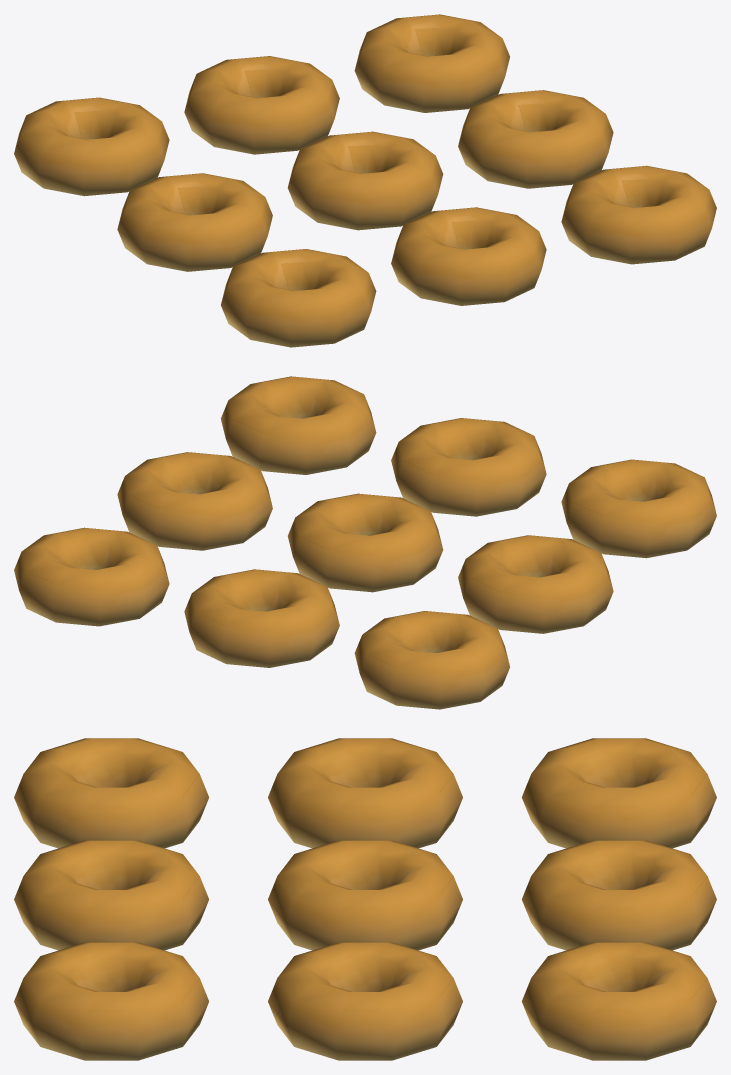
Rendered from Bakery_Bagel_01.fbx.
The picture shows the model from 3 angles, top to bottom: view 1: azimuth 30°, elevation 25°; view 2: azimuth 150°, elevation 25°; view 3: azimuth 270°, elevation 25°; orthographic projection. The views are drawn at different scales.
Visible parts, largest first — view 1: bagel; view 2: bagel; view 3: bagel.
Boxes of the visible parts, x1,y1,x2,y2 form: bagel: (14,14,716,347); bagel: (14,376,716,709); bagel: (14,738,716,1060).
Bounding box in the file's own units: 118 × 13.3 × 124.
